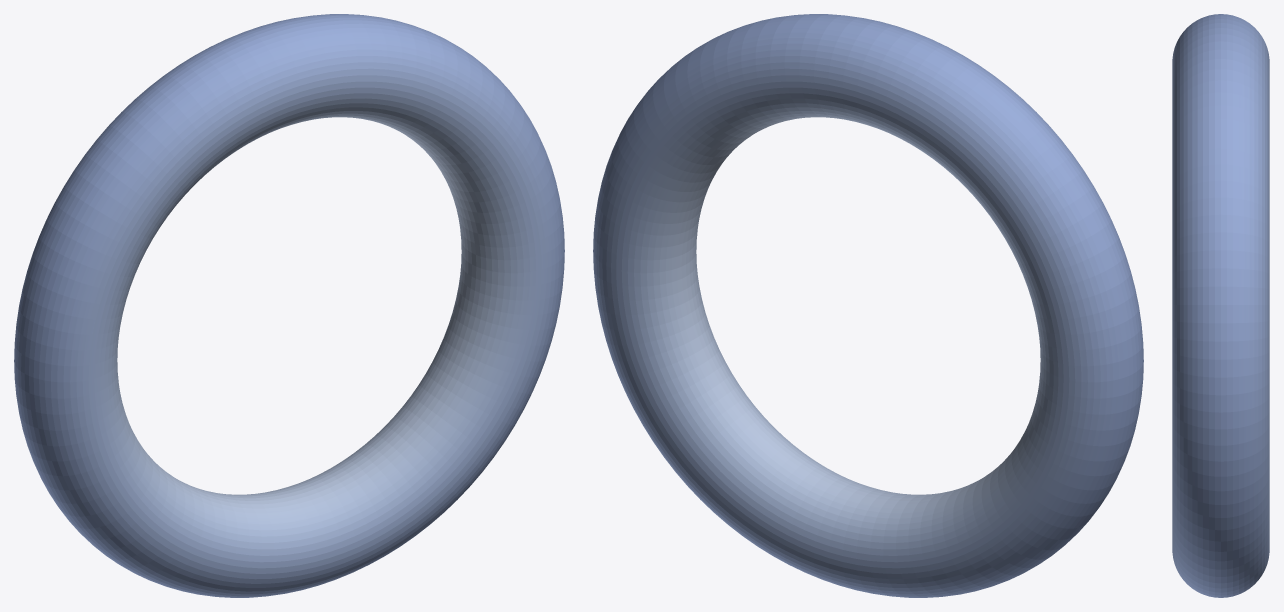
3 renders of one model, left to right at view 1: azimuth 30°, elevation 25°; view 2: azimuth 150°, elevation 25°; view 3: azimuth 270°, elevation 25°, orthographic. The views are drawn at different scales.
Parts seen in each view (by area): view 1: world; view 2: world; view 3: world.
Part boxes in pixels (box(x1,y1,x2,y2)): world: box(14, 14, 564, 597); world: box(593, 14, 1143, 597); world: box(1172, 14, 1269, 597).
Bounding box in the file's own units: 24.8 × 24.8 × 4.13.
